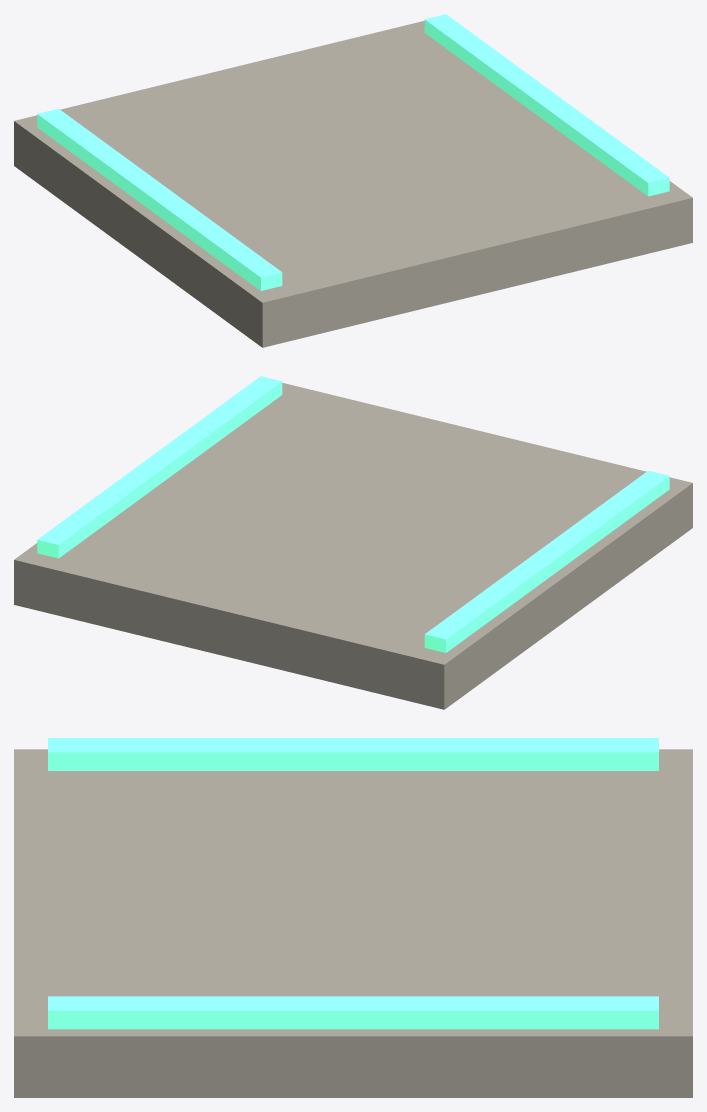
The model's file is SM_AEON_CheckpointPlinth.glb.
3 renders of one model, top to bottom at view 1: azimuth 30°, elevation 25°; view 2: azimuth 150°, elevation 25°; view 3: azimuth 270°, elevation 25°, orthographic. The views are drawn at different scales.
Visible parts, largest first — view 1: SM_AEON_CheckpointPlinth; view 2: SM_AEON_CheckpointPlinth; view 3: SM_AEON_CheckpointPlinth.
Part boxes in pixels (x1,y1,x2,y2): SM_AEON_CheckpointPlinth: (14,14,692,347); SM_AEON_CheckpointPlinth: (14,376,692,709); SM_AEON_CheckpointPlinth: (14,738,692,1097).
Bounding box in the file's own units: 2 × 0.26 × 2.
